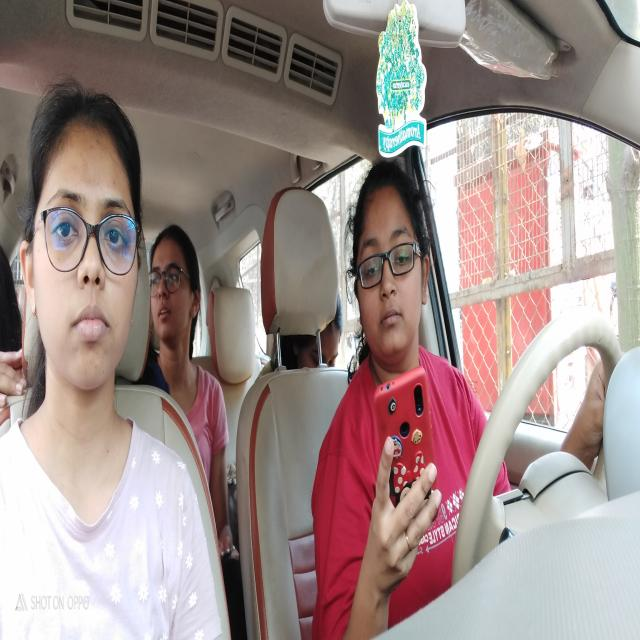mobile: (367, 368, 447, 506)
person: (26, 62, 143, 414), (346, 158, 438, 366), (150, 212, 207, 387), (292, 302, 350, 398)
